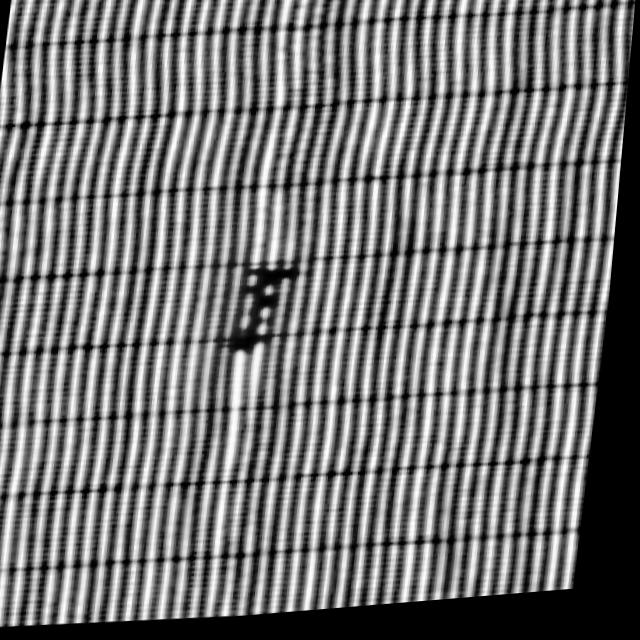Stitch: (203, 250, 322, 386)
